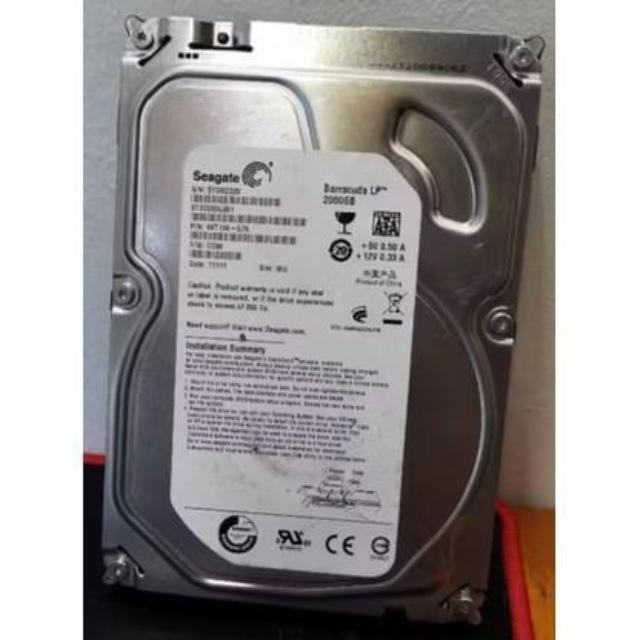DISK: (94, 14, 542, 626)
